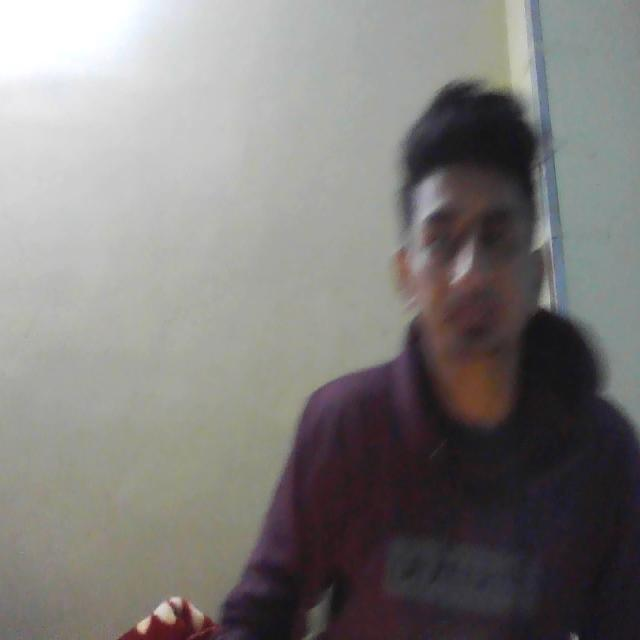real: (389, 84, 561, 409)
